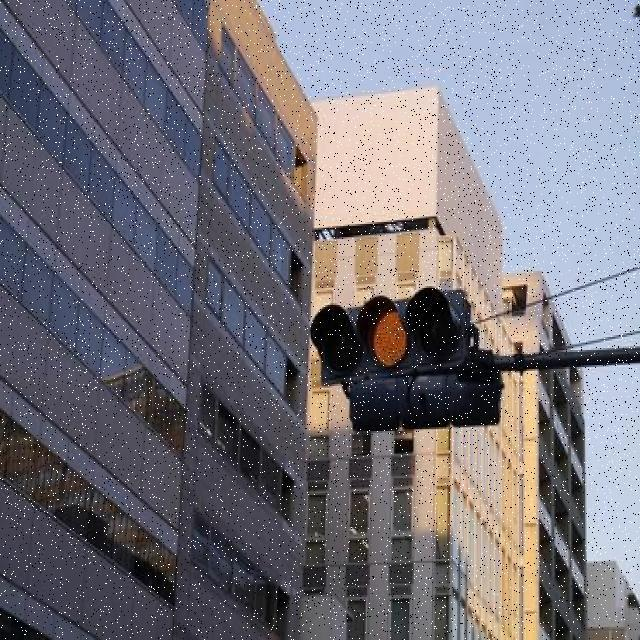yellow_light: (373, 288, 405, 382)
